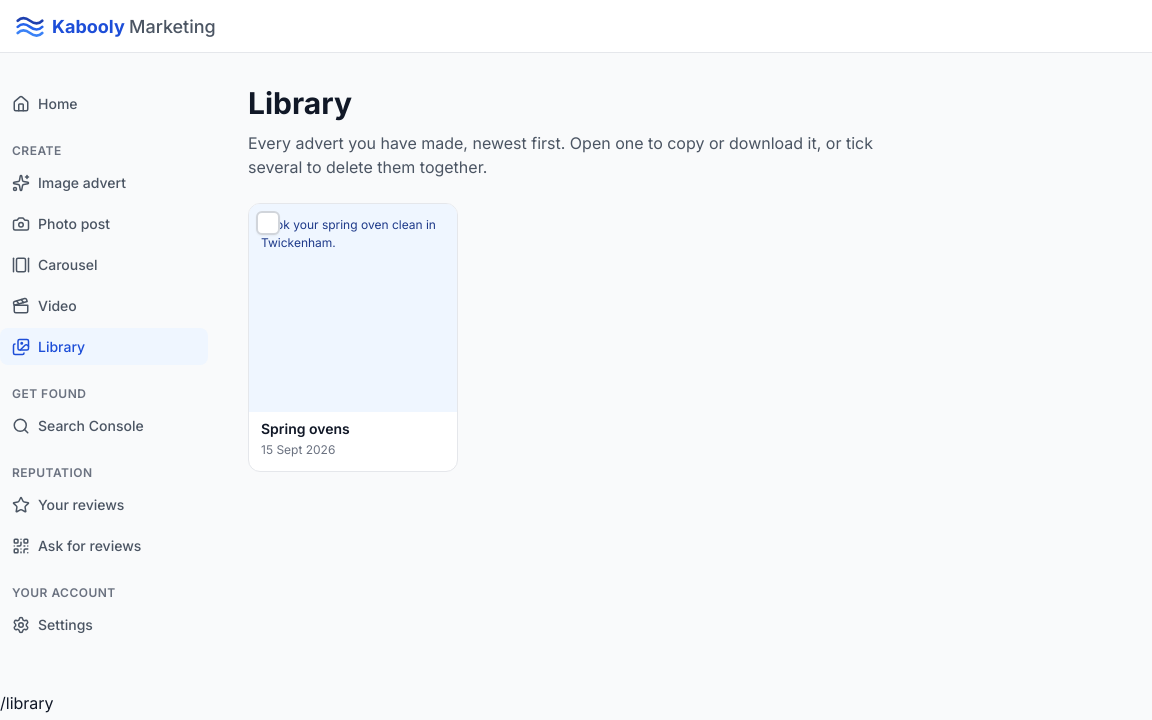
Test case: library › reports a failed bulk delete and keeps the adverts
Expected: the link with test id "library-card" is shown, left=248, top=202, right=458, bottom=472
What coordinates should you click on to do the following:
click the checkbox with test id "select-a1"
I would click on:
 (268, 222)
Its box is left=256, top=210, right=280, bottom=234.
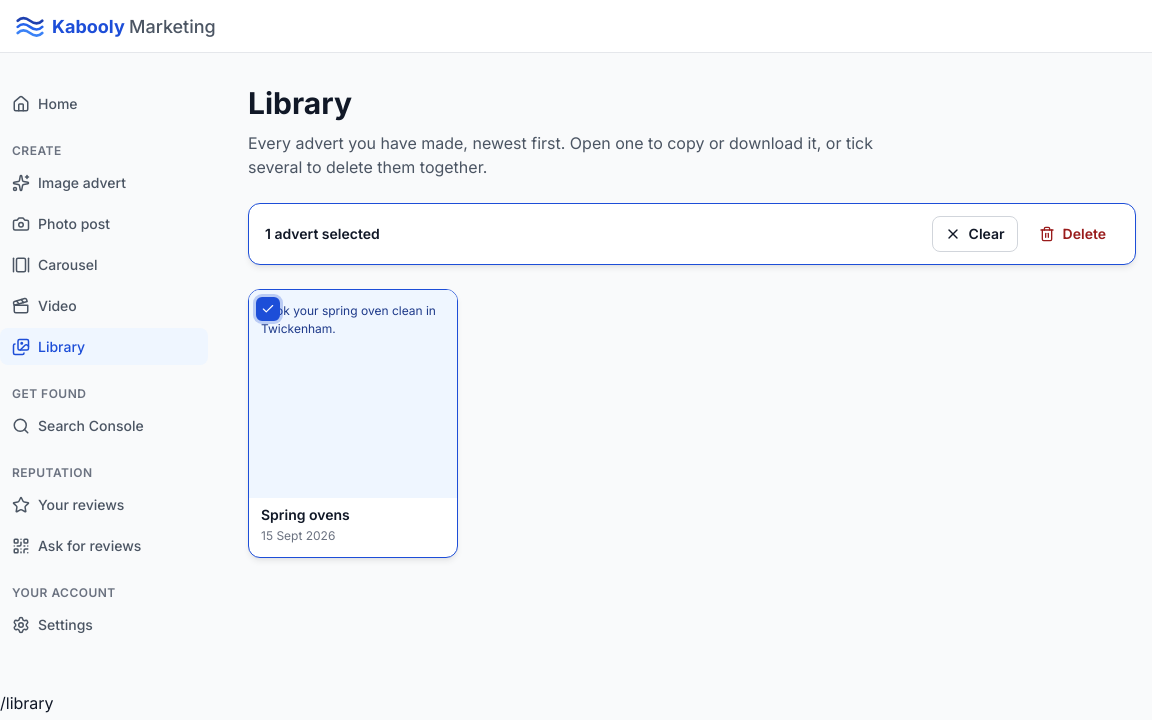
What coordinates should you click on to do the following:
click the button with test id "delete-selected"
I would click on:
 (1072, 234)
Its box is left=1026, top=216, right=1119, bottom=252.
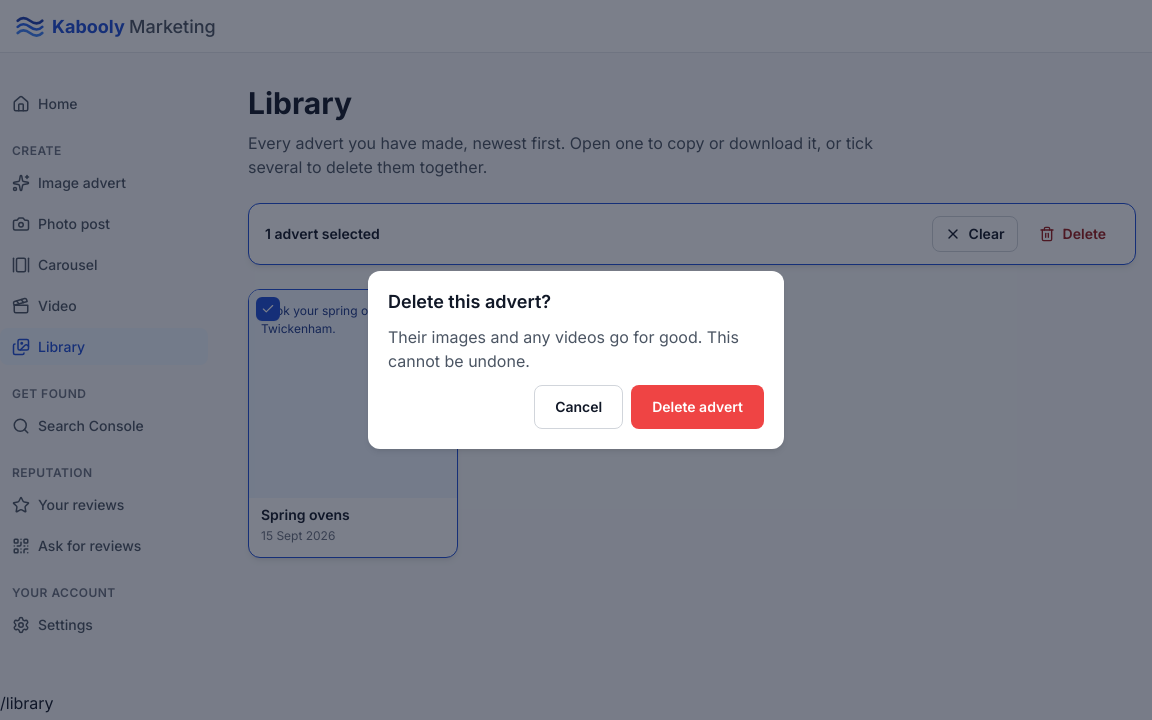
What coordinates should you click on to do the following:
click the button with test id "confirm-action"
I would click on:
 (698, 407)
Its box is left=631, top=385, right=764, bottom=429.
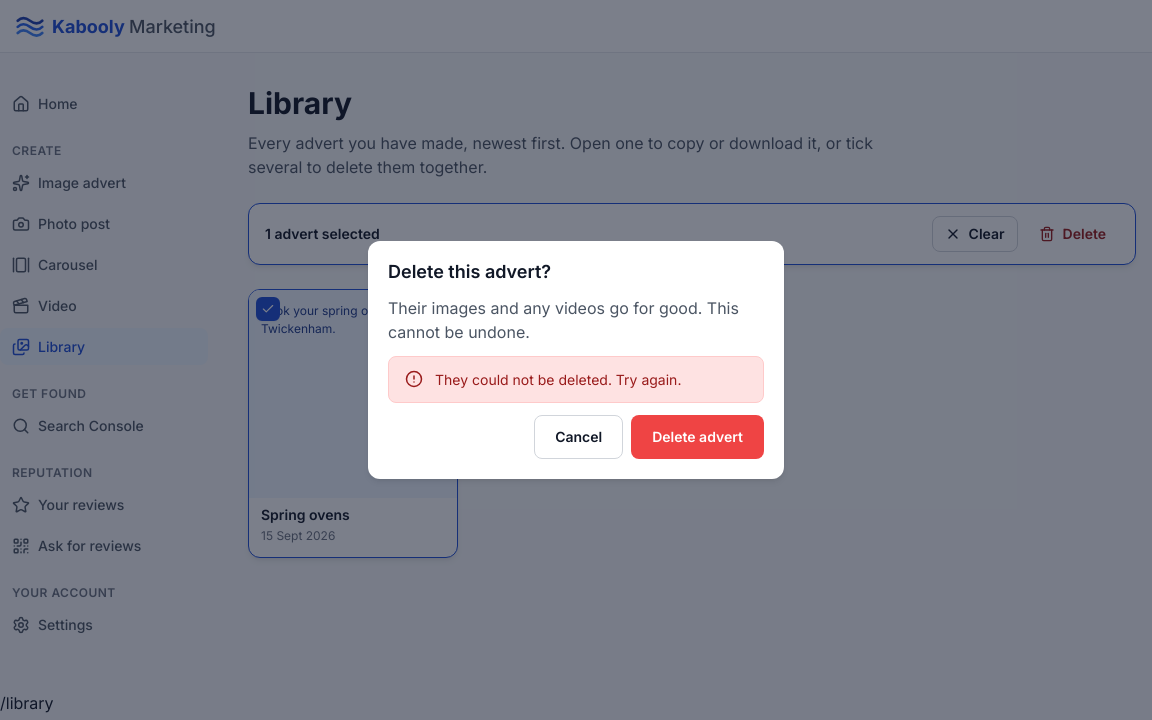
Expected: the link with test id "library-card" is shown, left=248, top=288, right=458, bottom=558
Expected: the text "They could not be deleted. Try again." is shown, left=435, top=369, right=681, bottom=390
